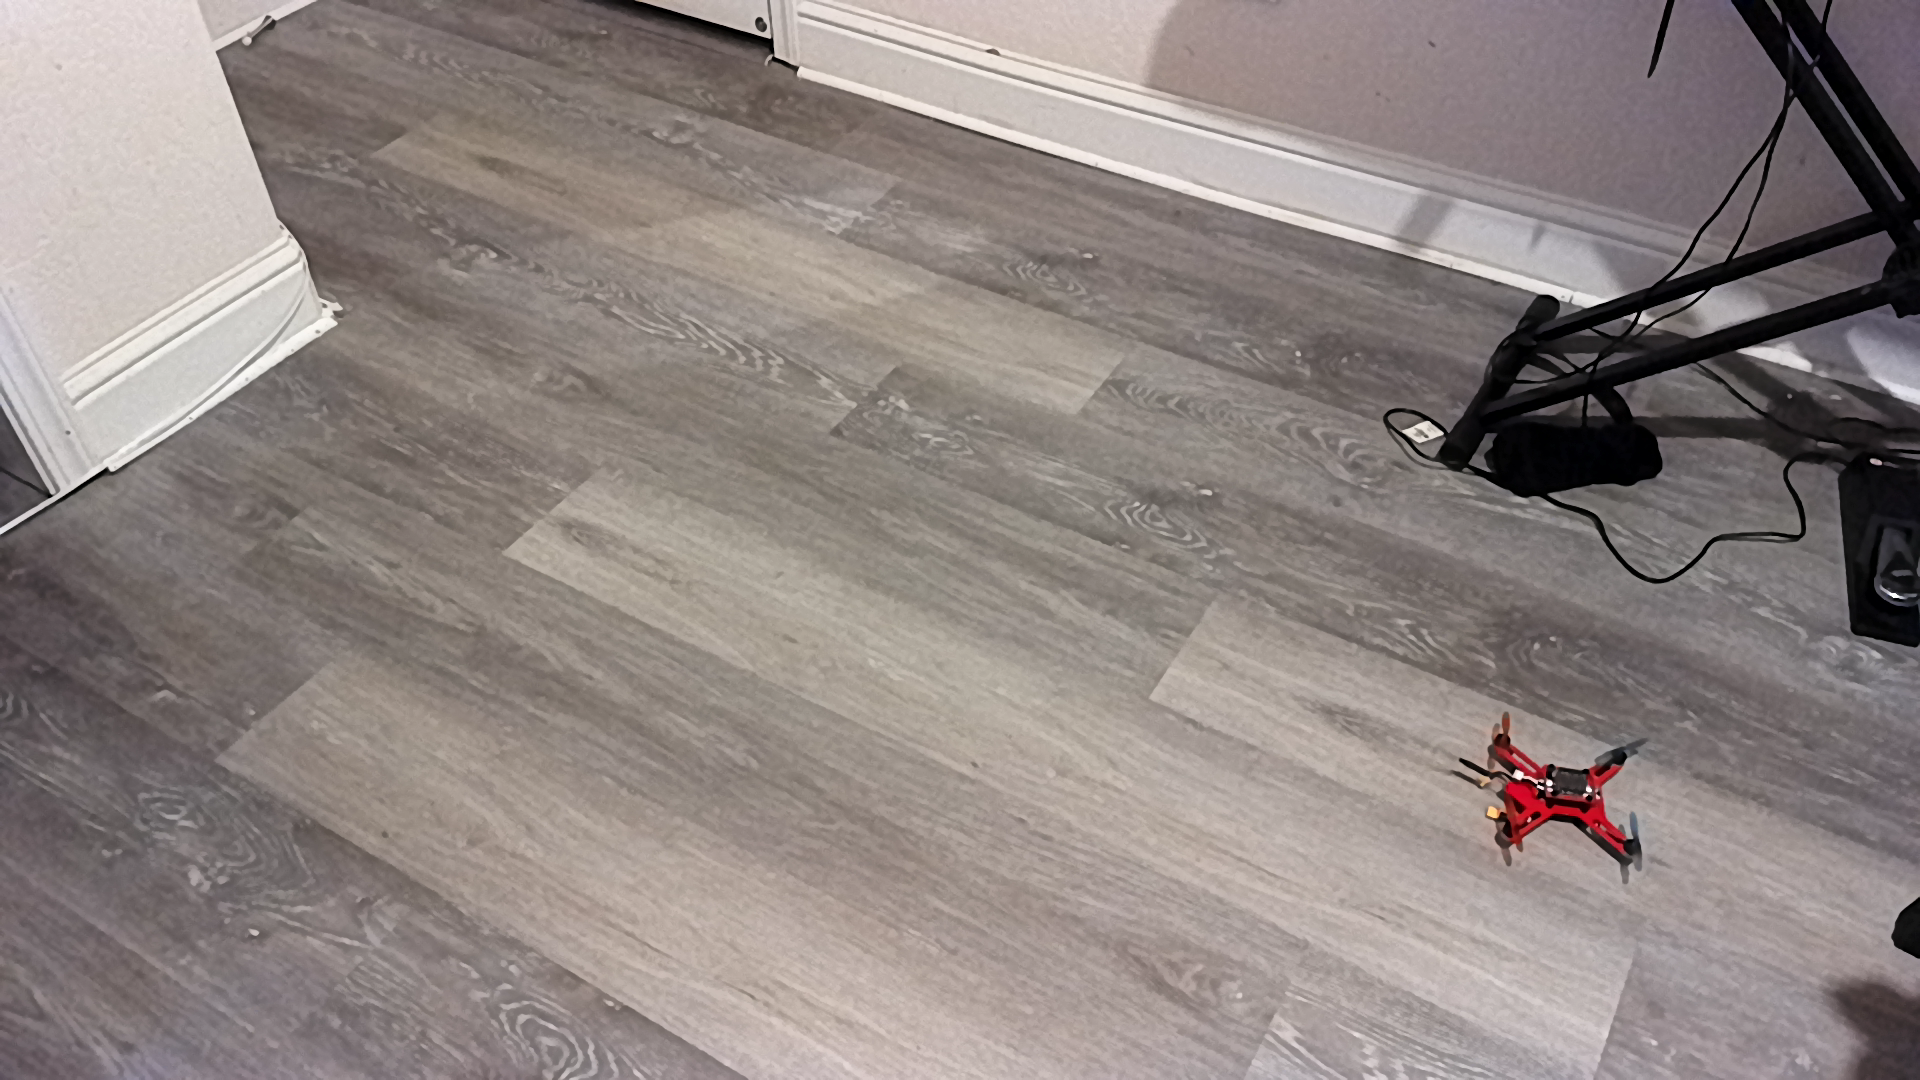drone: (1452, 708, 1660, 881)
